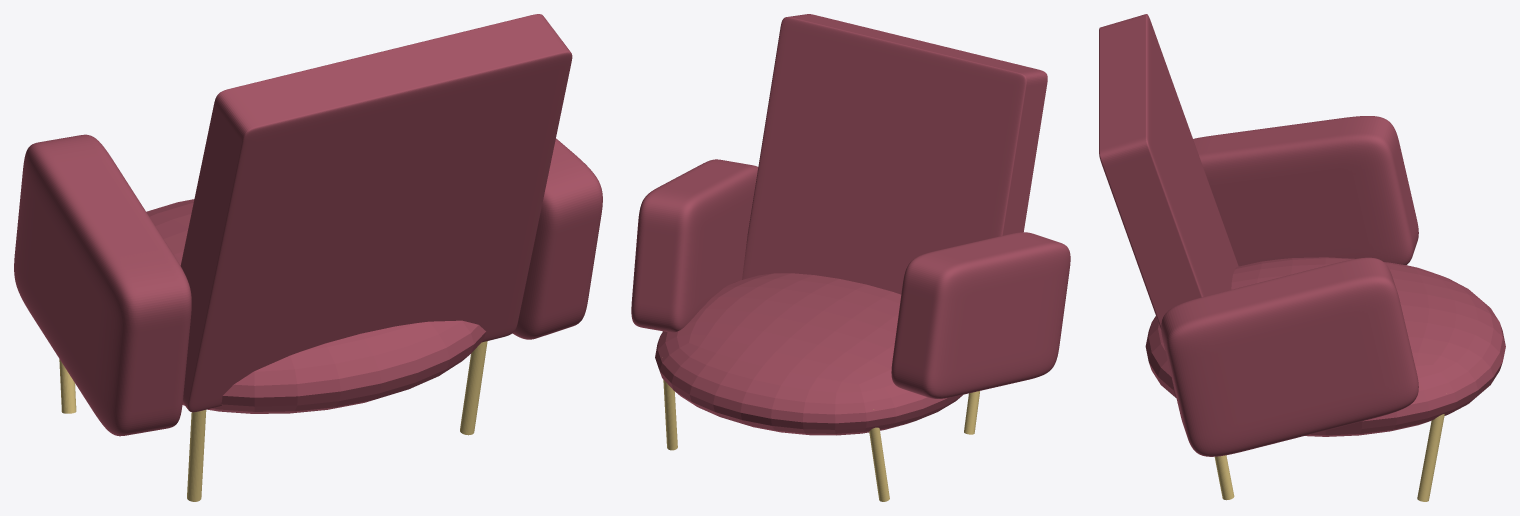
3 views of the same model, side by side, from view 1: azimuth 30°, elevation 25°; view 2: azimuth 150°, elevation 25°; view 3: azimuth 270°, elevation 25° (orthographic). The views are drawn at different scales.
Parts seen in each view (by area): view 1: Backrest, Left_Armrest, Seat_Cushion, Right_Armrest, Back_Left_Leg, Back_Right_Leg, Front_Left_Leg; view 2: Backrest, Seat_Cushion, Left_Armrest, Right_Armrest, Front_Left_Leg, Front_Right_Leg, Back_Left_Leg; view 3: Right_Armrest, Left_Armrest, Backrest, Seat_Cushion, Front_Right_Leg, Back_Right_Leg.
Boxes of the visible parts, x1=… form: Backrest: x1=180, y1=14, x2=572, y2=412; Left_Armrest: x1=14, y1=134, x2=191, y2=436; Seat_Cushion: x1=146, y1=199, x2=485, y2=413; Right_Armrest: x1=512, y1=138, x2=602, y2=339; Back_Left_Leg: x1=187, y1=410, x2=206, y2=501; Back_Right_Leg: x1=460, y1=341, x2=487, y2=435; Front_Left_Leg: x1=59, y1=359, x2=76, y2=413; Backrest: x1=742, y1=14, x2=1047, y2=294; Seat_Cushion: x1=655, y1=273, x2=962, y2=435; Left_Armrest: x1=891, y1=232, x2=1070, y2=398; Right_Armrest: x1=631, y1=159, x2=758, y2=332; Front_Left_Leg: x1=869, y1=409, x2=889, y2=501; Front_Right_Leg: x1=663, y1=380, x2=677, y2=450; Back_Left_Leg: x1=964, y1=391, x2=979, y2=434; Right_Armrest: x1=1161, y1=257, x2=1418, y2=456; Left_Armrest: x1=1193, y1=116, x2=1418, y2=266; Backrest: x1=1099, y1=14, x2=1238, y2=329; Seat_Cushion: x1=1145, y1=257, x2=1505, y2=436; Front_Right_Leg: x1=1417, y1=414, x2=1444, y2=501; Back_Right_Leg: x1=1214, y1=455, x2=1234, y2=500.
Bounding box in the file's own units: 1.89 × 1.7 × 1.71.
